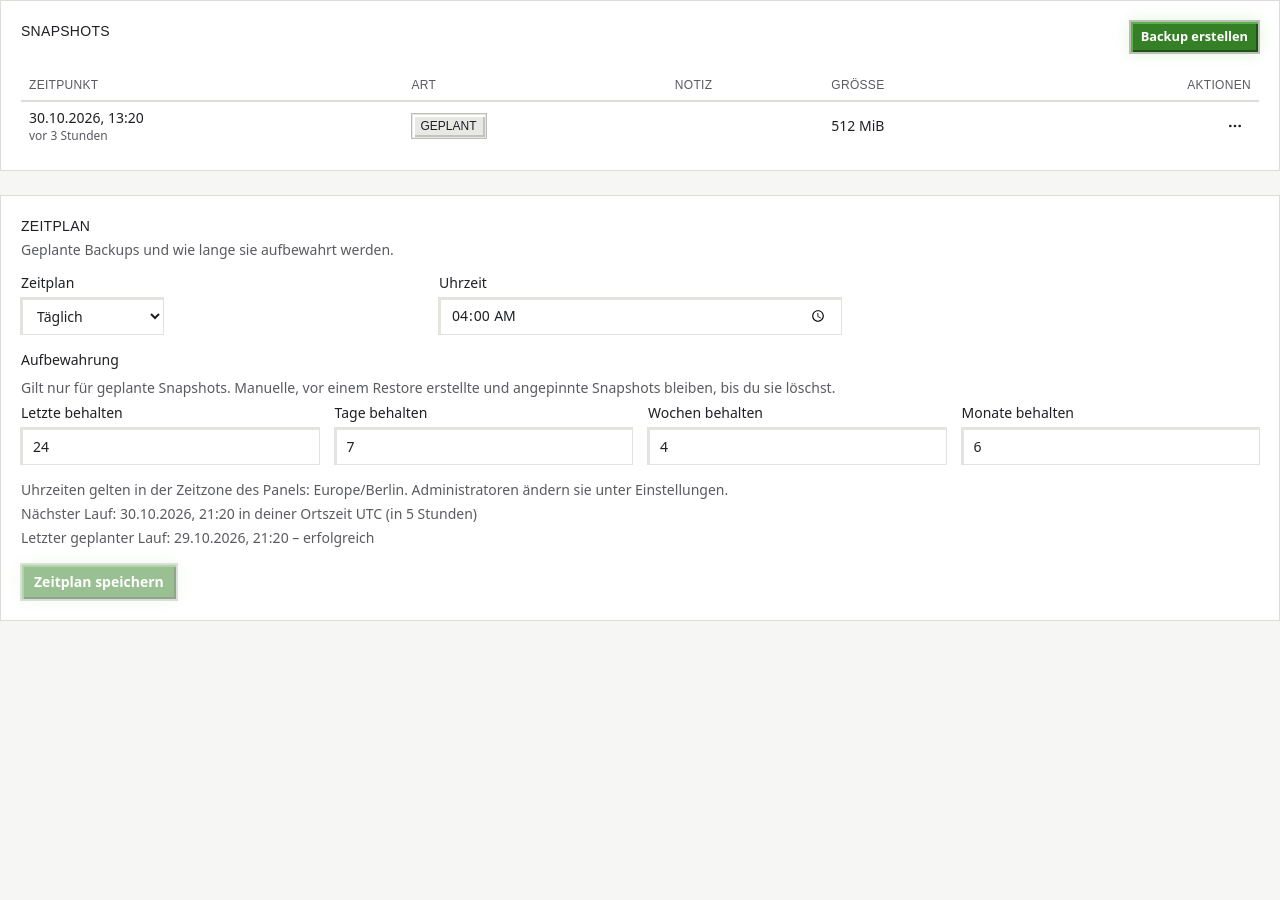
Scenario: snapshot actions › asks for sudo before a restore and shows nothing when it is cancelled
Click the button named "Aktionen für den Snapshot vom ": (1235, 126) left=1219, top=110, right=1251, bottom=142
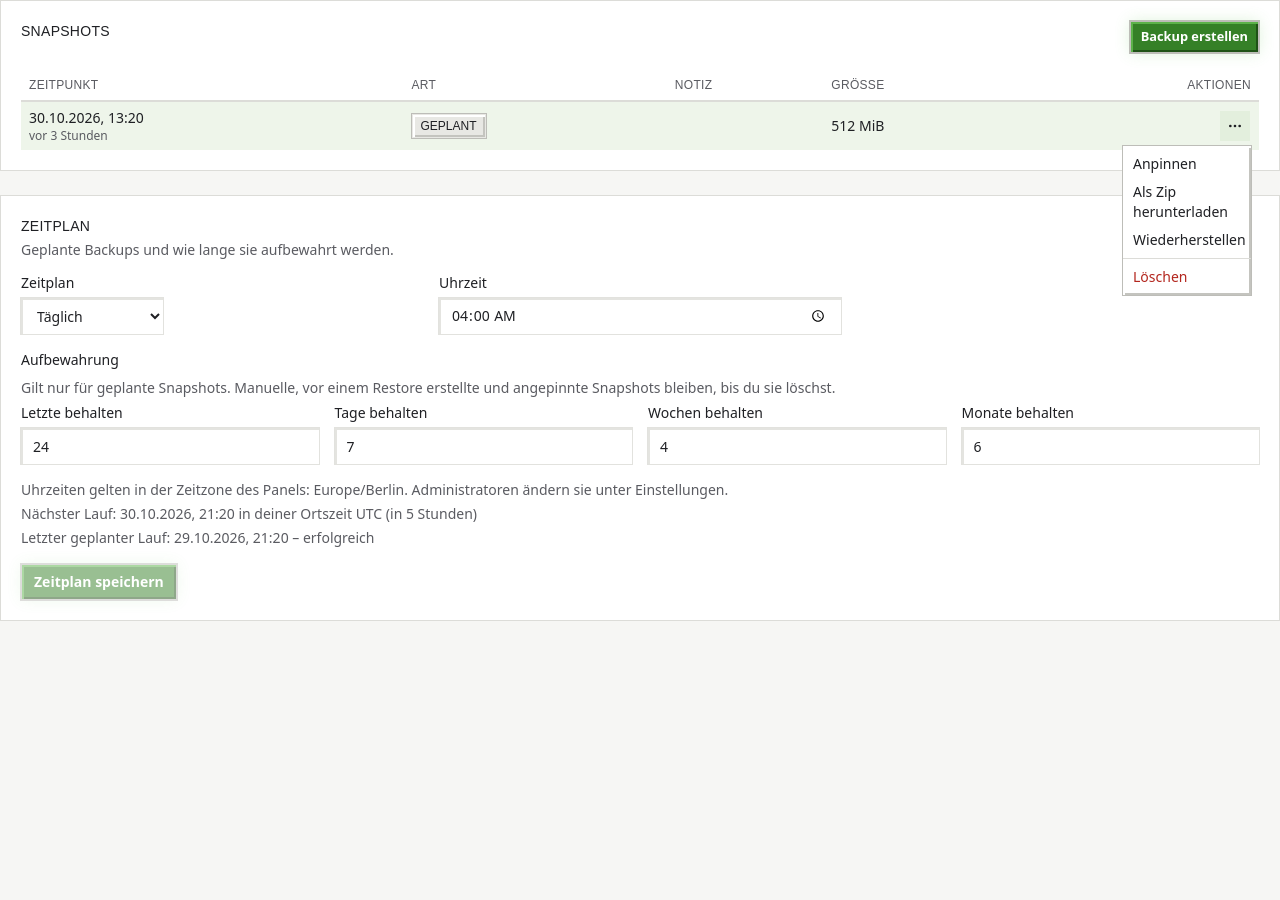
Click the menu item "Wiederherstellen": (1187, 240) left=1127, top=226, right=1247, bottom=254
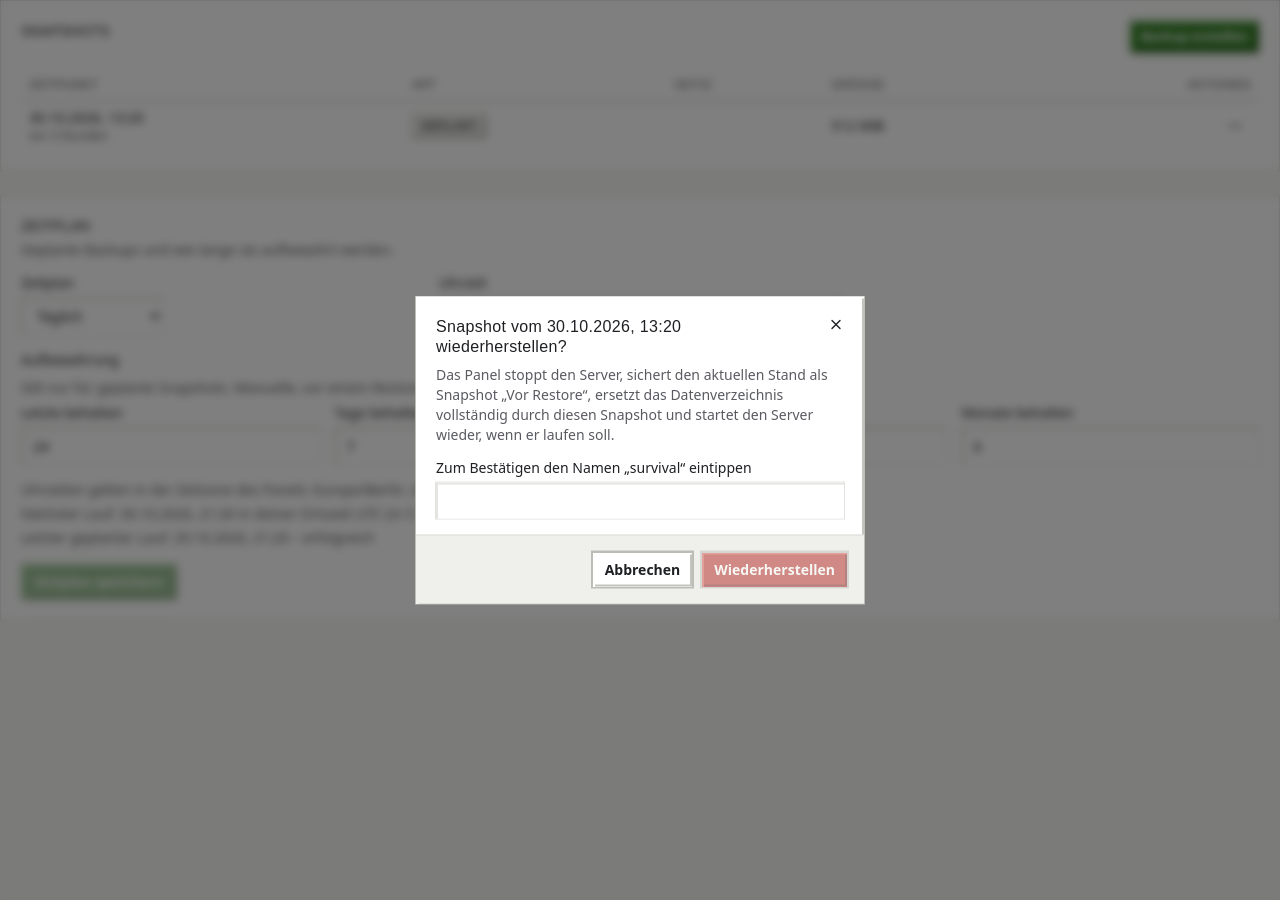
In the field labelled "Zum Bestätigen den Namen „survival“ eintippen": (640, 500) left=436, top=482, right=844, bottom=518, type "survival"
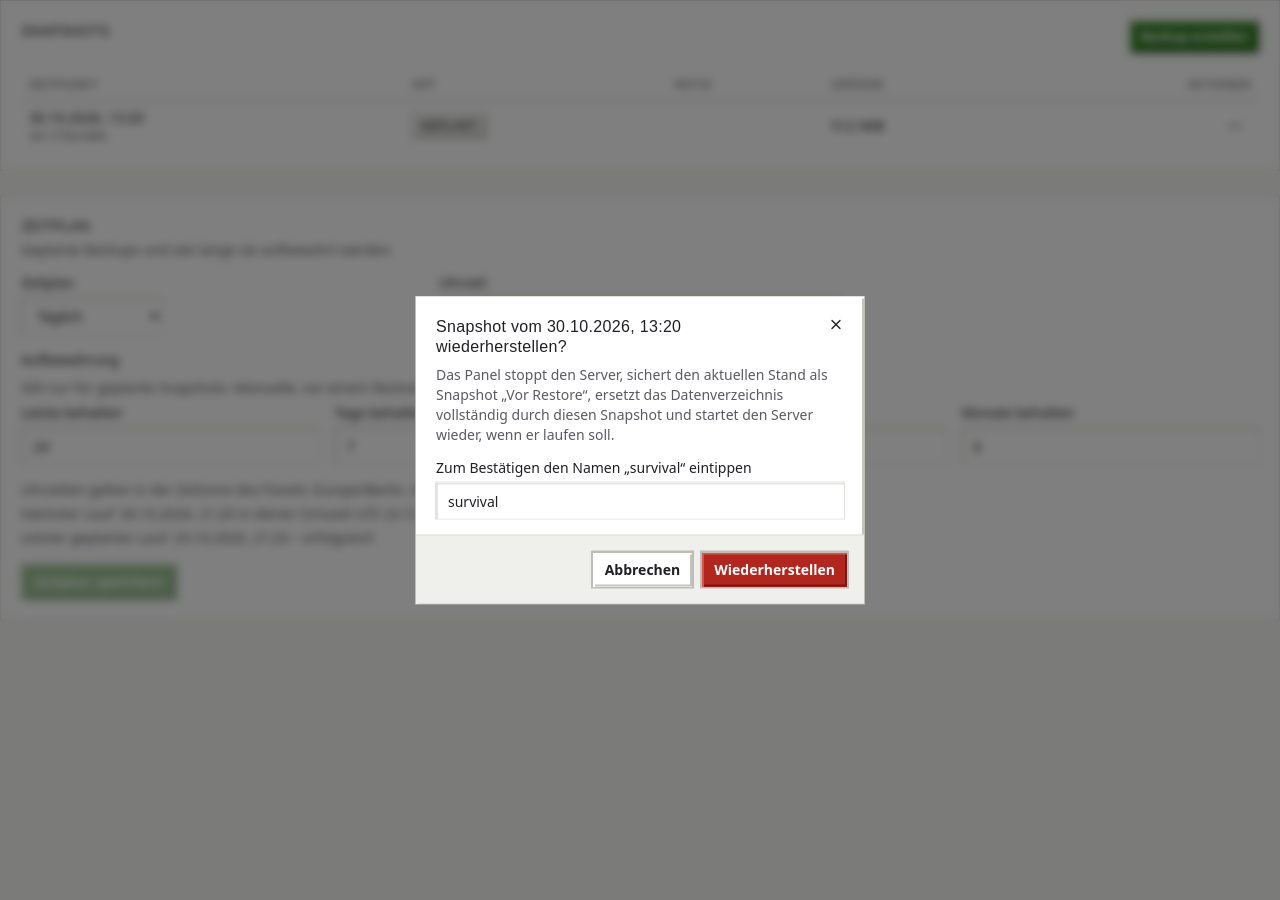
Click the button "Wiederherstellen": (775, 570) left=701, top=552, right=848, bottom=588
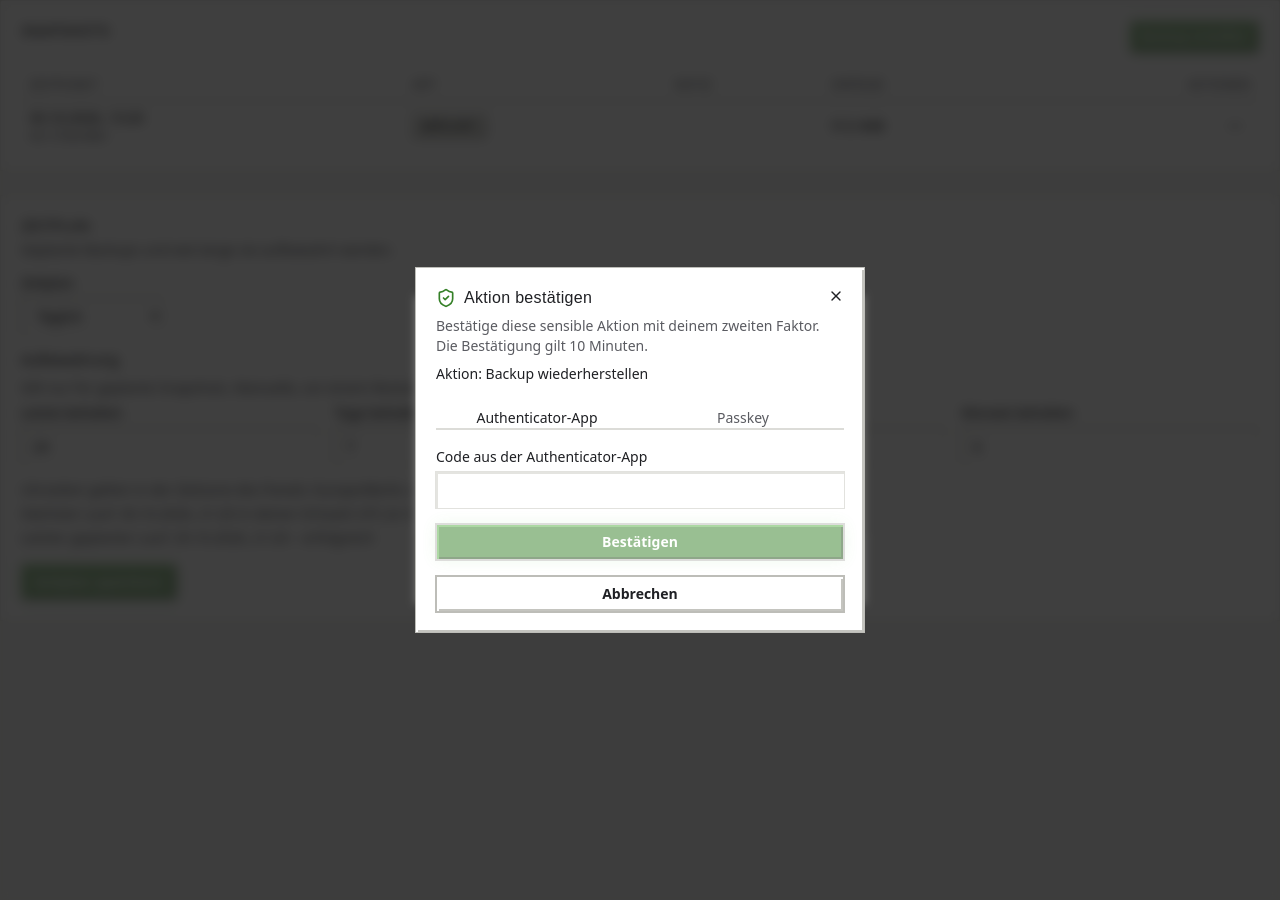
Click the button "Abbrechen": (640, 594) left=436, top=576, right=844, bottom=612
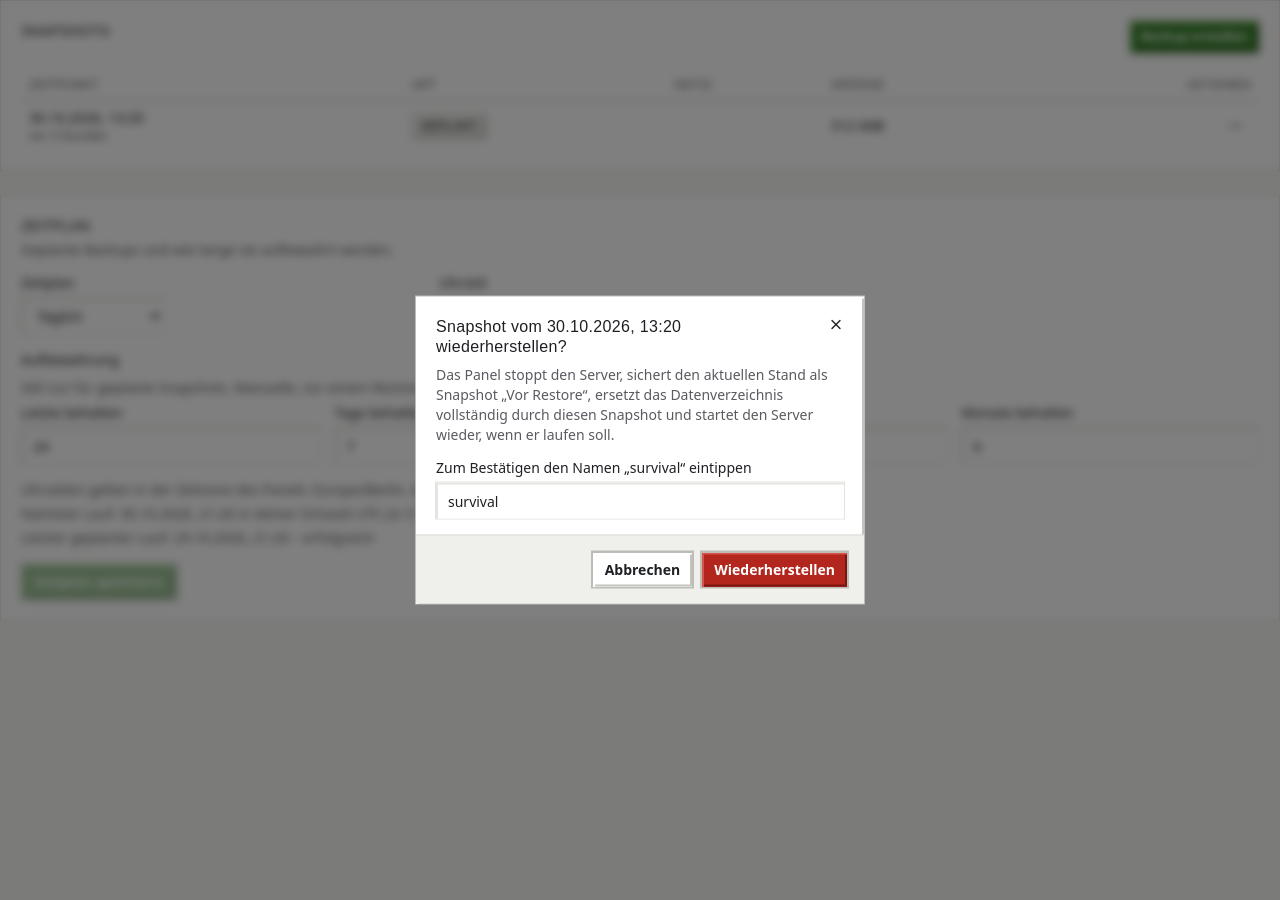
Now the heading "Aktion bestätigen" is gone
